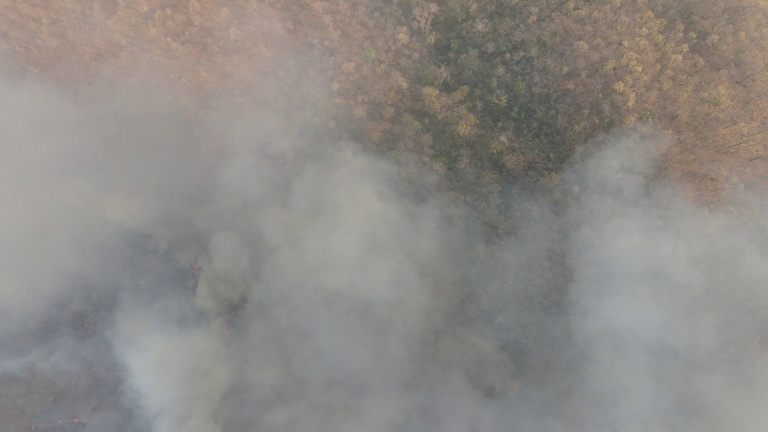fire: (181, 255, 237, 355), (28, 418, 95, 432)
smoke: (15, 71, 448, 432), (545, 139, 768, 432)
